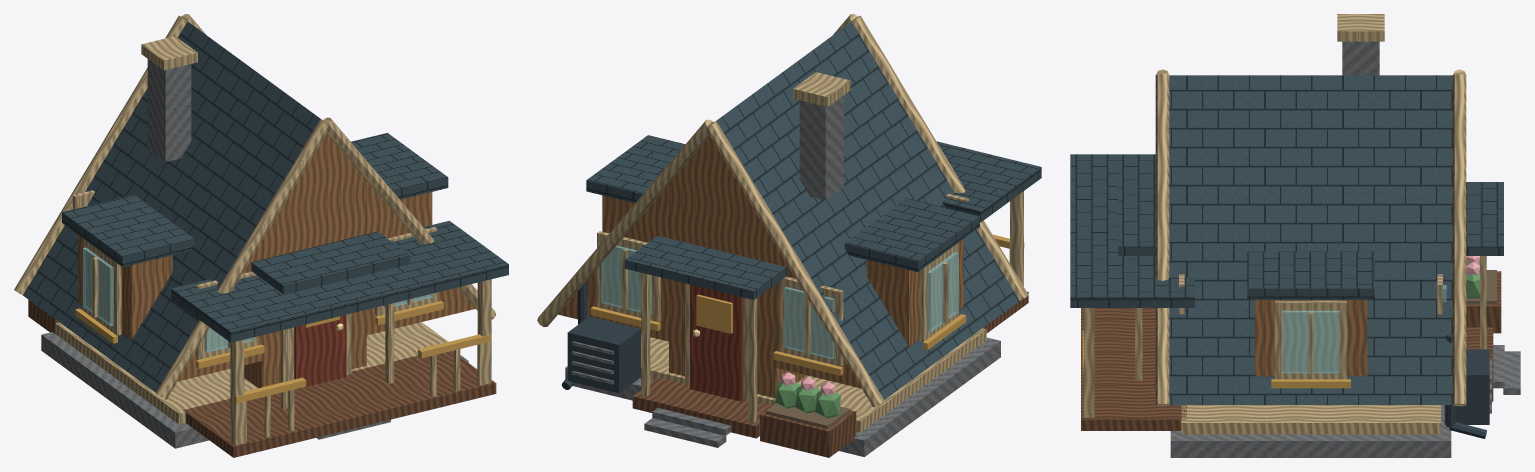
The model's file is house_aframe_lv1_porch.glb.
3 views of the same model, side by side, from view 1: azimuth 30°, elevation 25°; view 2: azimuth 150°, elevation 25°; view 3: azimuth 270°, elevation 25° (orthographic). The views are drawn at different scales.
Parts seen in each view (by area): view 1: steep_roof, porch_roof, porch_floor, a_frame_gables, floor_trim, left_dormer_cap, front_porch_canopy, foundation, chimney, a_frame_edge, right_dormer_cap, front_door (+20 smaller); view 2: steep_roof, a_frame_gables, left_dormer_cap, back_porch_canopy, foundation, a_frame_edge.001, back_door, porch_roof, back_ac_unit, chimney, floor_trim, walls (+27 smaller); view 3: steep_roof.001, porch_roof, porch_floor, floor_trim, foundation, right_dormer_cap, right_window_frame, a_frame_edge.003, a_frame_edge.002, right_window_glass, right_dormer, back_porch_canopy (+13 smaller).
Boxes of the visible parts, box(x1,y1,x2,y2) form: steep_roof: box(23, 21, 321, 392); porch_roof: box(171, 220, 508, 342); porch_floor: box(183, 351, 496, 457); a_frame_gables: box(178, 134, 475, 381); floor_trim: box(55, 322, 453, 424); left_dormer_cap: box(62, 194, 194, 267); front_porch_canopy: box(251, 231, 410, 294); foundation: box(41, 332, 468, 448); chimney: box(147, 59, 191, 161); a_frame_edge: box(155, 119, 328, 399); right_dormer_cap: box(351, 133, 448, 199); front_door: box(294, 314, 346, 389); steep_roof: box(715, 21, 1019, 399); a_frame_gables: box(558, 136, 861, 388); left_dormer_cap: box(844, 198, 979, 272); back_porch_canopy: box(624, 236, 786, 299); foundation: box(565, 337, 1000, 456); a_frame_edge.001: box(707, 121, 884, 407); back_door: box(690, 284, 742, 401); porch_roof: box(936, 141, 1041, 222); back_ac_unit: box(567, 316, 640, 393); chimney: box(799, 95, 843, 200); floor_trim: box(640, 328, 986, 432); walls: box(669, 279, 806, 398); steep_roof.001: box(1169, 75, 1452, 404); porch_roof: box(1070, 154, 1194, 307); porch_floor: box(1081, 308, 1186, 430); floor_trim: box(1181, 405, 1440, 434); foundation: box(1170, 405, 1451, 457); right_dormer_cap: box(1247, 251, 1374, 299); right_window_frame: box(1275, 300, 1347, 379); a_frame_edge.003: box(1452, 74, 1466, 406); a_frame_edge.002: box(1155, 74, 1169, 406); right_window_glass: box(1282, 310, 1339, 373); right_dormer: box(1255, 300, 1367, 376); back_porch_canopy: box(1466, 182, 1503, 255).
Bounding box in the file's own units: 3.29 × 2.9 × 3.61.
Materials: 13 (7 with a texture image).
